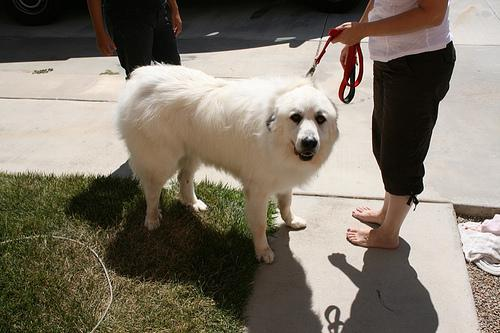dog: (267, 84, 335, 159)
